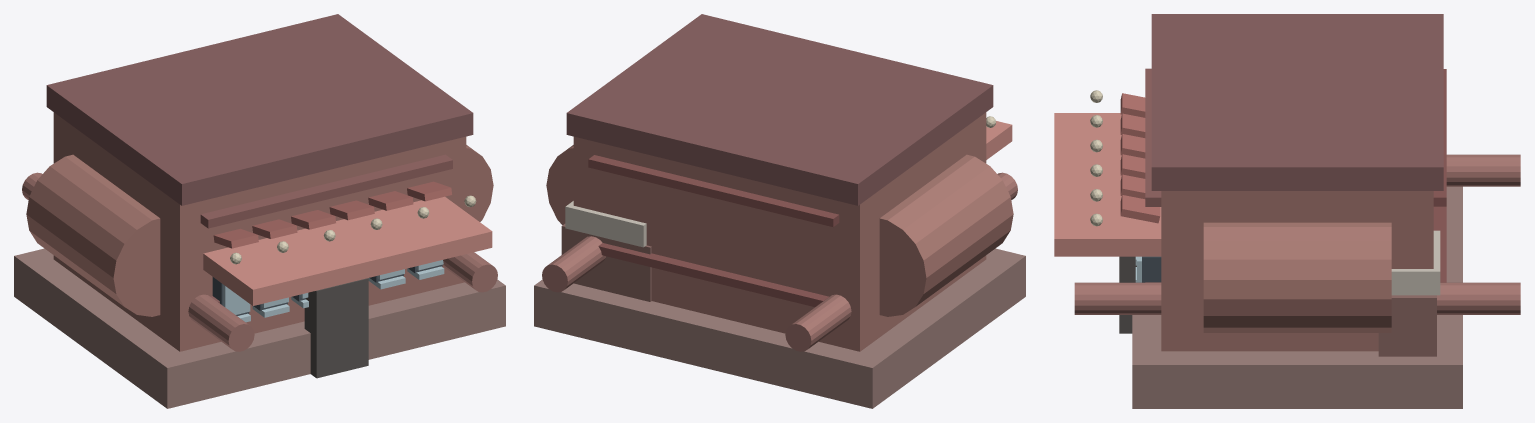
The model's file is diner.glb.
3 views of the same model, side by side, from view 1: azimuth 30°, elevation 25°; view 2: azimuth 150°, elevation 25°; view 3: azimuth 270°, elevation 25° (orthographic). The views are drawn at different scales.
Visible parts, largest first — view 1: world; view 2: world; view 3: world.
Part boxes in pixels (<box>): world: <box>14,14,505,408</box>; world: <box>534,14,1025,408</box>; world: <box>1054,14,1520,408</box>.
Bounding box in the file's own units: 1.46 × 0.8332 × 1.44.
